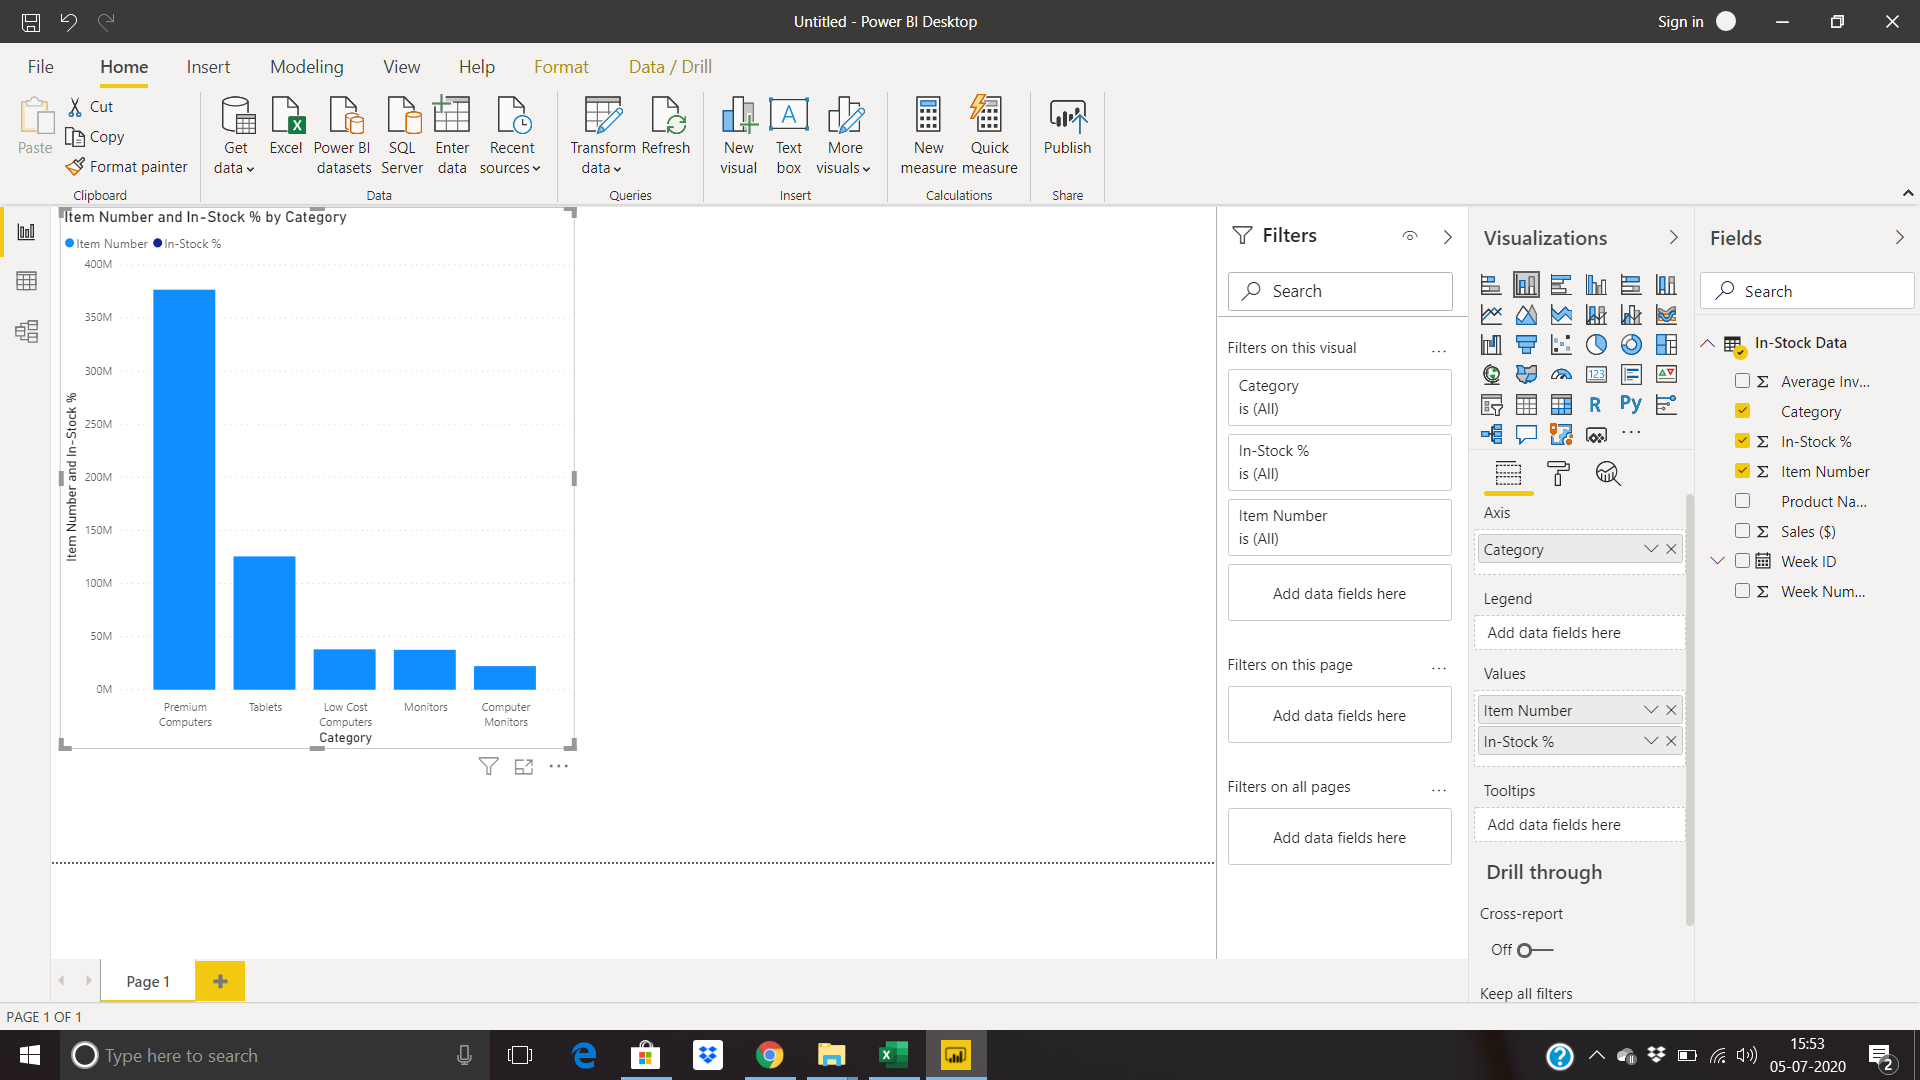

What the dashboard file says about the page in this screenshot:
{"tool":"powerbi","page":{"name":"Page 1","canvas":[1280,720],"ordinal":0},"visuals":[{"type":"columnChart","fields":{"Category":["In-Stock Data.Category"],"Y":["Sum(In-Stock Data.In-Stock %)"]},"box":[9.6,0,565.8,596.1],"z":0},{"type":"clusteredColumnChart","fields":{"Y":["In-Stock Data.Measure"],"Category":["In-Stock Data.Category","In-Stock Data.Category Hierarchy.Category","In-Stock Data.Category Hierarchy.Item Number"]},"box":[541.1,35.7,611.2,560.3],"z":1}]}

Visuals, with their boxes on the page's 1280x720 design canvas (x1, y1, x2, y2). These are canvas units, not pixel positions in the 1920x1080 screenshot, which may show the page scaled, cropped or inside an application window:
columnChart - In-Stock Data.Category x Sum(In-Stock Data.In-Stock %): left=10, top=0, right=575, bottom=596
clusteredColumnChart - In-Stock Data.Measure x In-Stock Data.Category: left=541, top=36, right=1152, bottom=596
